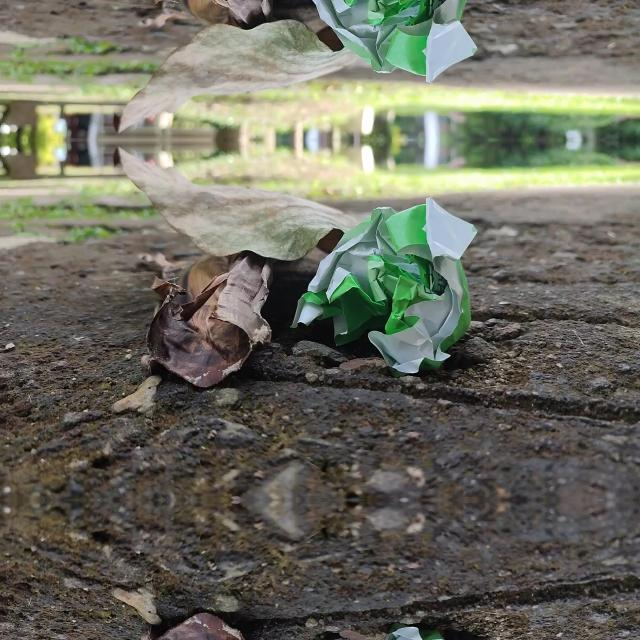paper: (300, 186, 482, 392), (300, 0, 482, 94), (300, 608, 482, 640)
